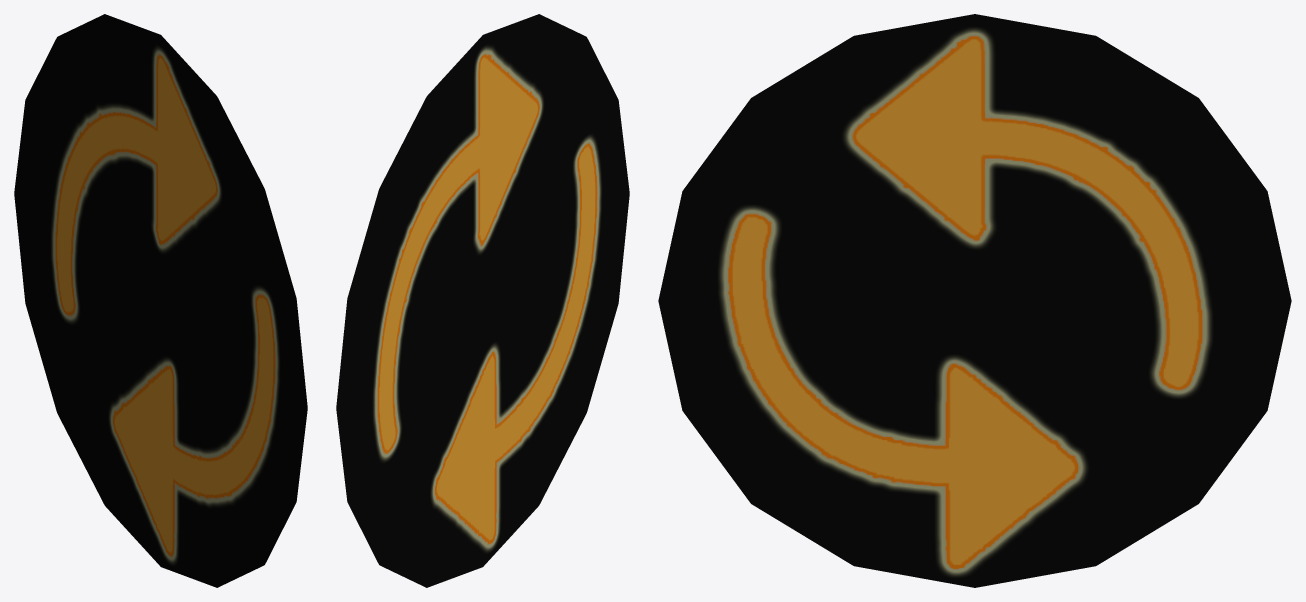
File: icon_confuse.FBX
The picture shows the model from 3 angles, left to right: view 1: azimuth 30°, elevation 25°; view 2: azimuth 150°, elevation 25°; view 3: azimuth 270°, elevation 25°; orthographic projection. The views are drawn at different scales.
Visible parts, largest first — view 1: icon_confuse; view 2: icon_confuse; view 3: icon_confuse.
Part boxes in pixels (left/top/right/bottom): icon_confuse: left=14, top=14, right=307, bottom=587; icon_confuse: left=336, top=14, right=629, bottom=587; icon_confuse: left=658, top=14, right=1291, bottom=587.
Size of the model in its own units: 8.58e-06 by 52.59 by 52.59.
